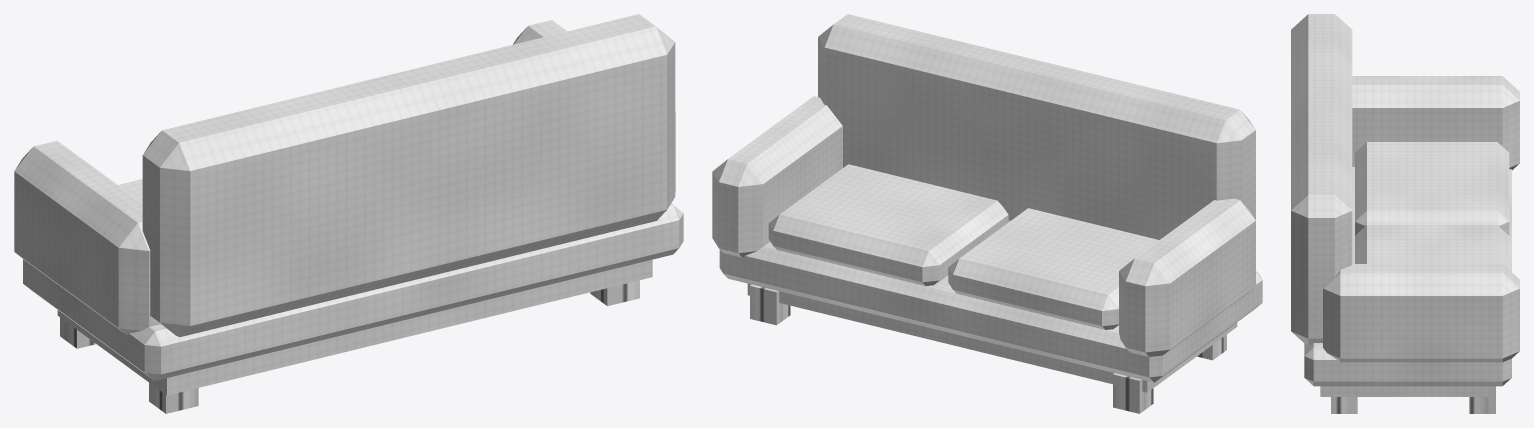
File: couch.obj
3 renders of one model, left to right at view 1: azimuth 30°, elevation 25°; view 2: azimuth 150°, elevation 25°; view 3: azimuth 270°, elevation 25°, orthographic. The views are drawn at different scales.
Visible parts, largest first — view 1: couch; view 2: couch; view 3: couch.
Part boxes in pixels (x1,y1,x2,y2): couch: (14,14,683,413); couch: (712,14,1262,413); couch: (1291,14,1519,413).
Size of the model in its own units: 1.88 by 0.91 by 0.86.
